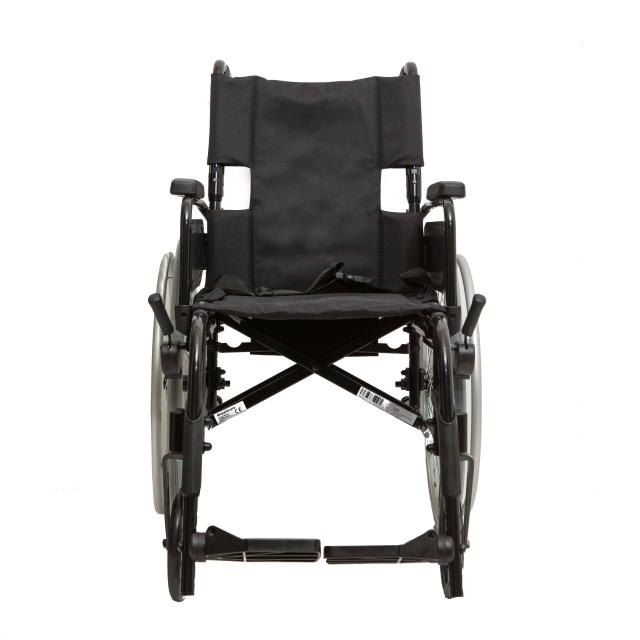wheelchairs: (140, 57, 486, 608)
